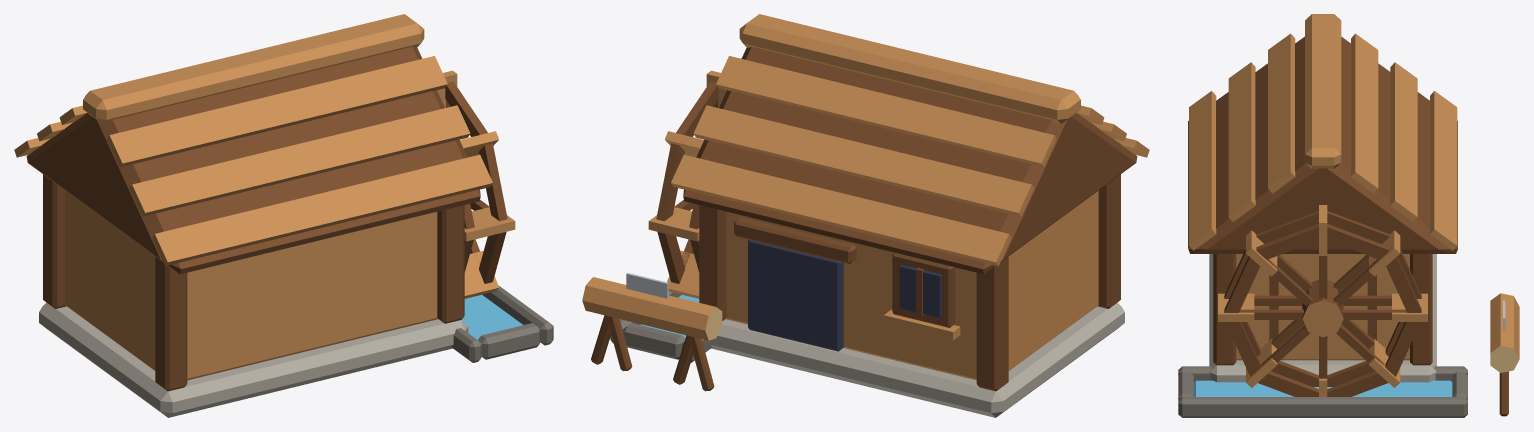
File: sawmill_l1.fbx
The picture shows the model from 3 angles, left to right: view 1: azimuth 30°, elevation 25°; view 2: azimuth 150°, elevation 25°; view 3: azimuth 270°, elevation 25°; orthographic projection. The views are drawn at different scales.
Parts seen in each view (by area): view 1: sawmill_l1, Wheel; view 2: sawmill_l1, Wheel; view 3: sawmill_l1, Wheel.
Boxes of the visible parts, x1,y1,x2,y2 form: sawmill_l1: [14, 14, 553, 417]; Wheel: [437, 70, 515, 298]; sawmill_l1: [582, 14, 1149, 417]; Wheel: [648, 70, 726, 298]; sawmill_l1: [1178, 14, 1519, 417]; Wheel: [1218, 205, 1427, 396].
Size of the model in its own units: 0.897 by 0.6312 by 0.792.
